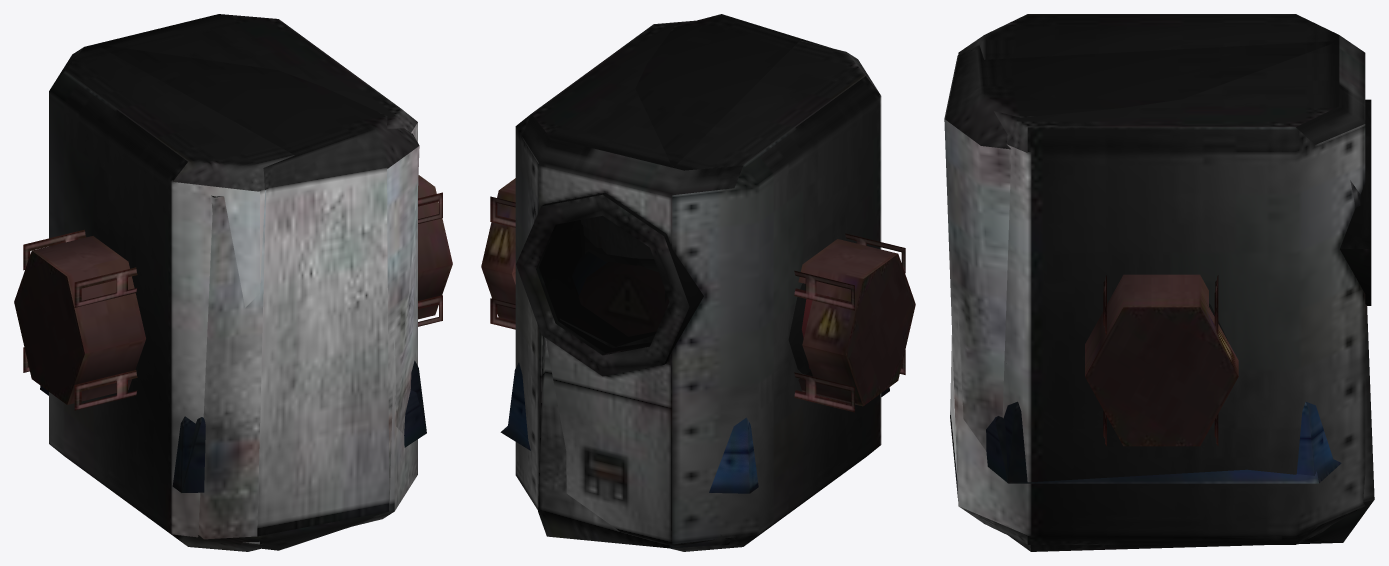
File: ShipParts1.fbx
3 views of the same model, side by side, from view 1: azimuth 30°, elevation 25°; view 2: azimuth 150°, elevation 25°; view 3: azimuth 270°, elevation 25° (orthographic). The views are drawn at different scales.
Parts seen in each view (by area): view 1: Ship_Hull.001, Ship_Hull, Barrel2, Ship_Dome_Damaged, Ship_Dome; view 2: Ship_Hull, Ship_Hull.001, Barrel2, Ship_Dome, Ship_Dome_Damaged; view 3: Ship_Hull, Ship_Hull.001, Barrel2, Ship_Dome_Damaged, Ship_Dome.
Boxes of the visible parts, bbox=[...] form: Ship_Hull.001: bbox=[98, 44, 419, 550]; Ship_Hull: bbox=[49, 14, 417, 551]; Barrel2: bbox=[14, 175, 452, 410]; Ship_Dome_Damaged: bbox=[40, 386, 426, 492]; Ship_Dome: bbox=[40, 360, 426, 492]; Ship_Hull: bbox=[515, 20, 881, 551]; Ship_Hull.001: bbox=[534, 14, 830, 548]; Barrel2: bbox=[481, 178, 915, 412]; Ship_Dome: bbox=[507, 362, 889, 493]; Ship_Dome_Damaged: bbox=[500, 392, 887, 493]; Ship_Hull: bbox=[958, 14, 1371, 544]; Ship_Hull.001: bbox=[944, 41, 1374, 551]; Barrel2: bbox=[1085, 274, 1238, 446]; Ship_Dome_Damaged: bbox=[986, 416, 1341, 483]; Ship_Dome: bbox=[1003, 401, 1333, 483].
Bounding box in the file's own units: 150 × 159 × 140.
